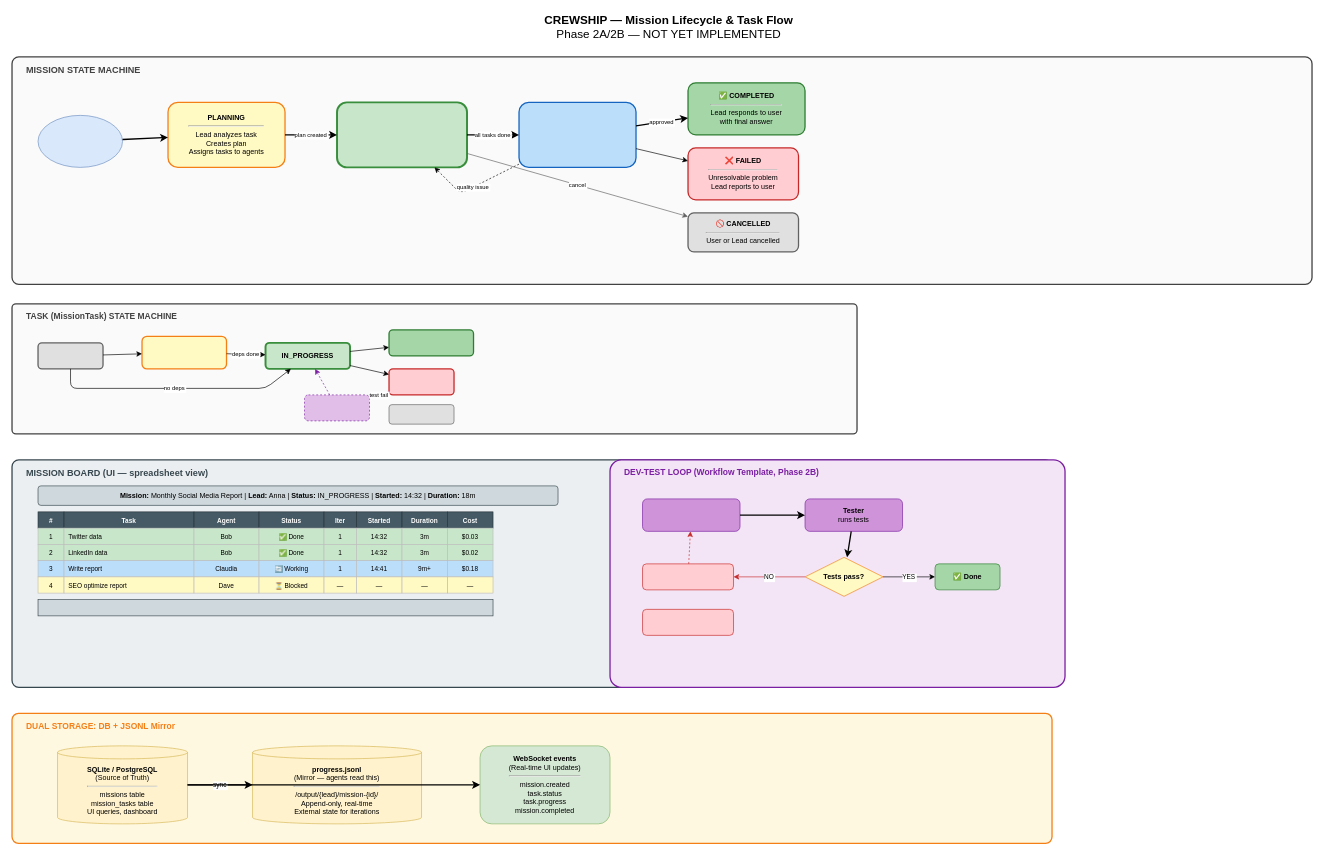
Some shapes in this 1323 by 855 pixel diagram are drawn without their labels. The shapes that lost their labels are listed below. From the top down, each one's box as (x1, y1, x2, y2) in pixels, then its label:
(37, 115, 123, 167): User sends complex task to Lead
(336, 101, 468, 168): IN_PROGRESS Agents working on tasks Lead coordinates Parallel + sequential
(518, 101, 636, 168): REVIEW All tasks done Lead checks quality Aggregates results
(37, 342, 103, 369): PENDING
(141, 335, 227, 369): BLOCKED (waiting on dep)
(388, 329, 474, 356): ✅ COMPLETED
(388, 368, 454, 395): ❌ FAILED
(304, 394, 370, 421): iteration++ (dev-test loop)
(388, 404, 454, 424): ⏭️ SKIPPED
(642, 498, 740, 531): Developer implements feature
(642, 563, 734, 590): iteration++ (with error context)
(37, 599, 493, 616): Total: 4 tasks | 2 done | 1 working | 1 blocked | Est. cost: ~$0.42
(642, 609, 734, 635): max_iterations reached → FAILED
